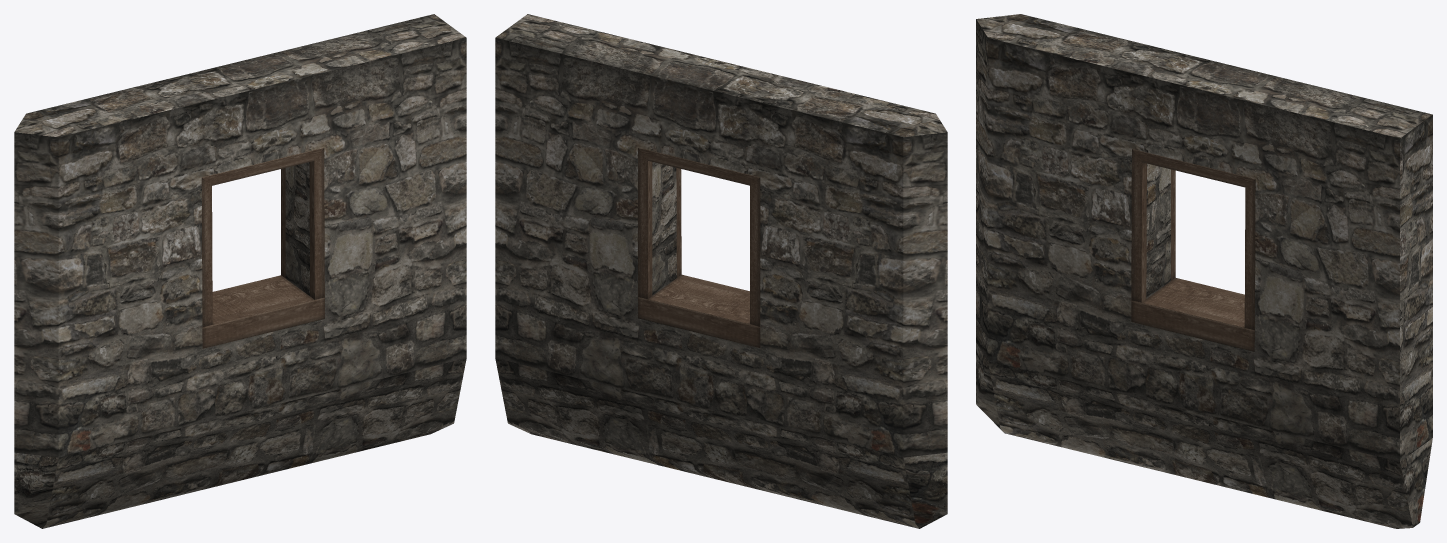
File: House_Stone_Window_Plain.dae
The picture shows the model from 3 angles, left to right: view 1: azimuth 30°, elevation 25°; view 2: azimuth 150°, elevation 25°; view 3: azimuth 330°, elevation 25°; orthographic projection.
Parts seen in each view (by area): view 1: StoneWindowPlain; view 2: StoneWindowPlain; view 3: StoneWindowPlain.
Part boxes in pixels (x1=…): StoneWindowPlain: x1=14, y1=14, x2=466, y2=528; StoneWindowPlain: x1=495, y1=14, x2=947, y2=528; StoneWindowPlain: x1=976, y1=14, x2=1432, y2=528.
Size of the model in its own units: 4.28 by 3.8 by 0.5732.
1 material, 1 textured.
